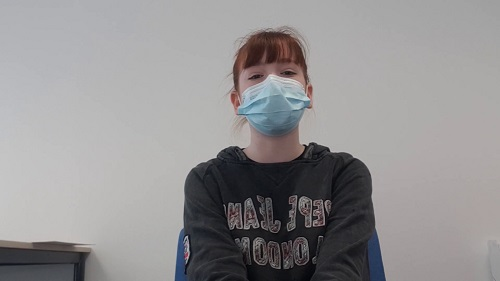with_mask: (241, 54, 305, 132)
